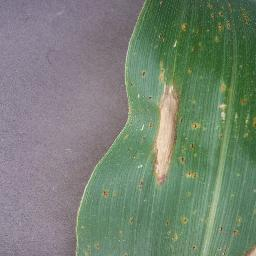Corn_Blight: (149, 81, 183, 187), (204, 0, 256, 33), (212, 215, 245, 238), (234, 112, 256, 141), (150, 30, 178, 48), (124, 96, 135, 138), (73, 241, 102, 256), (219, 79, 228, 123), (163, 230, 186, 245), (158, 58, 171, 81), (187, 118, 203, 134), (122, 76, 137, 92), (96, 187, 115, 199), (181, 214, 193, 230), (238, 95, 251, 108), (163, 219, 180, 228), (186, 169, 202, 177), (178, 21, 192, 30), (194, 40, 204, 52), (216, 247, 229, 256), (128, 216, 138, 227), (185, 66, 198, 74), (191, 242, 200, 253), (138, 178, 147, 187), (212, 36, 221, 45), (187, 142, 195, 151), (141, 68, 147, 79)
